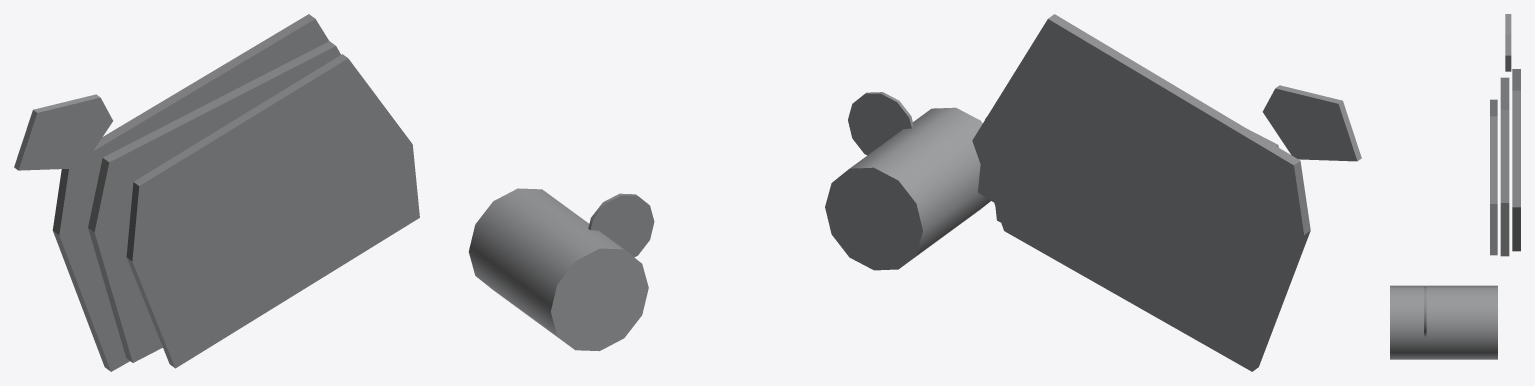
The picture shows the model from 3 angles, left to right: view 1: azimuth 30°, elevation 25°; view 2: azimuth 150°, elevation 25°; view 3: azimuth 270°, elevation 25°; orthographic projection. The views are drawn at different scales.
Size of the model in its own units: 1.01 by 0.4697 by 0.2723.
